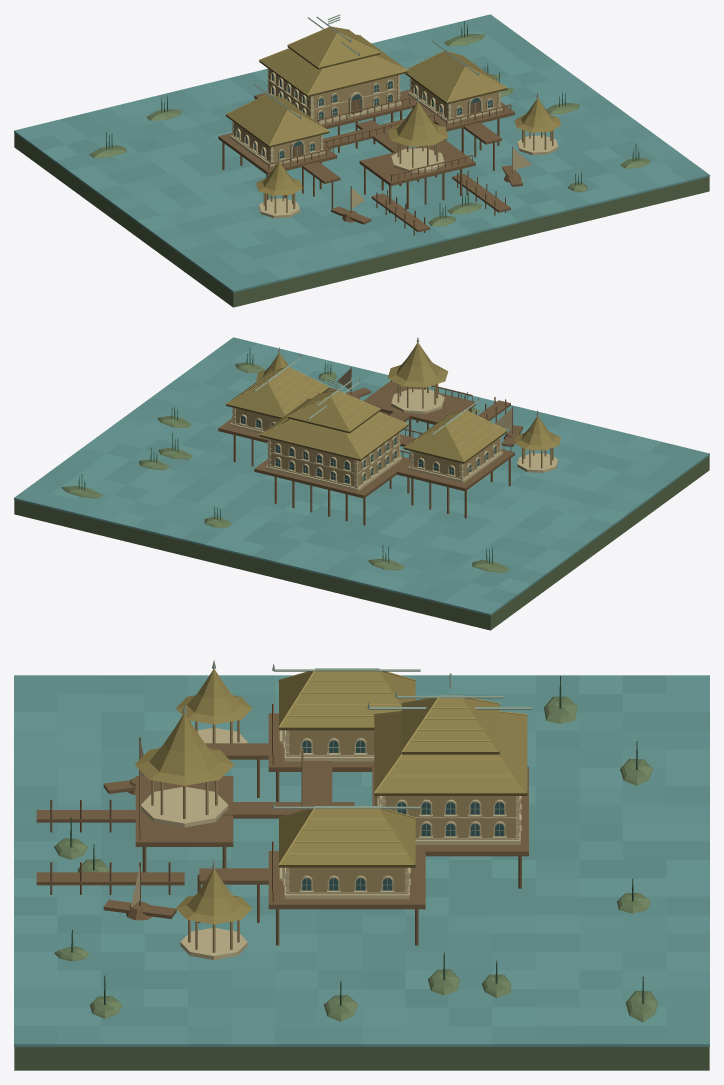
Rendered from delta.glb.
3 views of the same model, one above another, from view 1: azimuth 30°, elevation 25°; view 2: azimuth 150°, elevation 25°; view 3: azimuth 270°, elevation 25° (orthographic). The views are drawn at different scales.
Visible parts, largest first — view 1: site, side-courts-roof, side-courts, pilings, assembly-roof, walkways, assembly, walkways-roof, boats; view 2: site, side-courts-roof, assembly-roof, pilings, assembly, side-courts, walkways, walkways-roof, boats; view 3: site, side-courts-roof, assembly-roof, side-courts, pilings, walkways, assembly, walkways-roof, boats.
Boxes of the visible parts, box(x1,y1,x2,y2) form: site: box(14, 14, 709, 307); side-courts-roof: box(226, 41, 560, 195); side-courts: box(230, 78, 558, 218); pilings: box(218, 89, 514, 213); assembly-roof: box(259, 17, 408, 97); walkways: box(323, 112, 510, 235); assembly: box(265, 68, 402, 124); walkways-roof: box(387, 96, 447, 146); boats: box(331, 146, 531, 224); site: box(14, 337, 709, 630); side-courts-roof: box(226, 347, 560, 463); assembly-roof: box(259, 377, 408, 460); pilings: box(218, 380, 514, 525); assembly: box(265, 432, 402, 491); side-courts: box(230, 387, 558, 482); walkways: box(379, 384, 510, 446); walkways-roof: box(387, 337, 448, 387); boats: box(337, 367, 522, 446); site: box(14, 675, 709, 1070); side-courts-roof: box(176, 660, 420, 924); assembly-roof: box(367, 690, 532, 795); side-courts: box(180, 720, 410, 959); pilings: box(135, 703, 528, 945); walkways: box(36, 749, 354, 894); assembly: box(377, 796, 521, 844); walkways-roof: box(135, 704, 234, 785); boats: box(103, 737, 176, 920).
Size of the model in its own units: 59.01 by 15.73 by 47.06.
